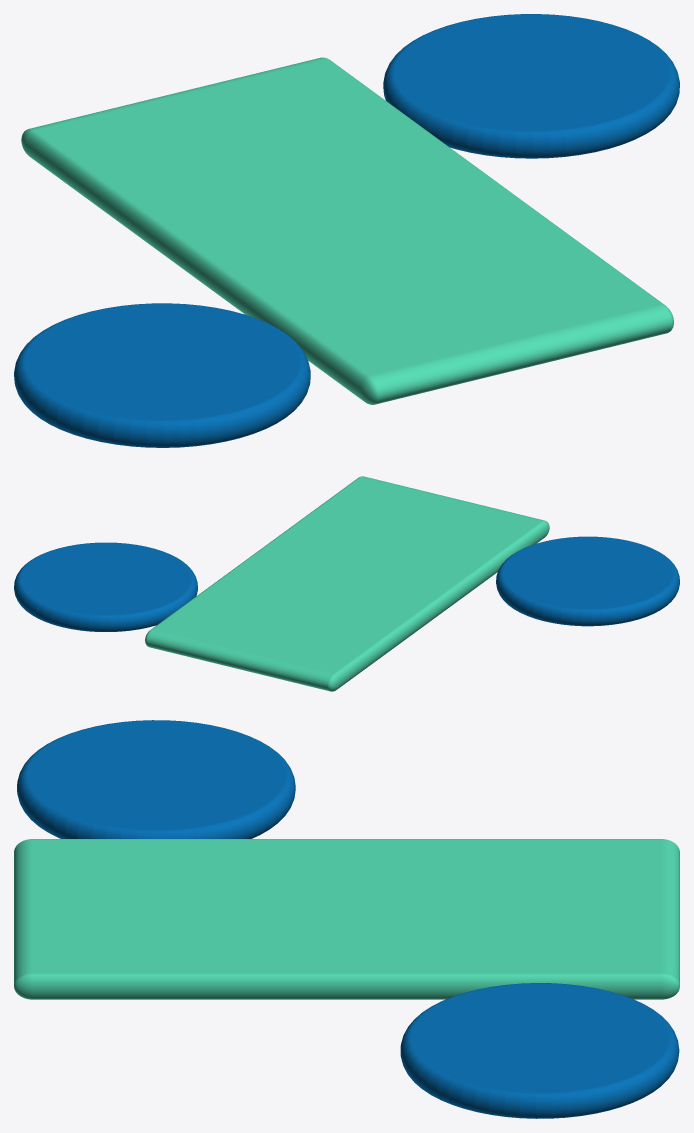
Rendered from Cylinder_Nets.fbx.
3 renders of one model, top to bottom at view 1: azimuth 30°, elevation 25°; view 2: azimuth 150°, elevation 25°; view 3: azimuth 270°, elevation 25°, orthographic. The views are drawn at different scales.
Visible parts, largest first — view 1: Plane, Circle.001, Circle; view 2: Plane, Circle.001, Circle; view 3: Plane, Circle, Circle.001.
Boxes of the visible parts, x1,y1,x2,y2 form: Plane: (21, 57, 673, 404); Circle.001: (14, 303, 310, 447); Circle: (383, 14, 679, 158); Plane: (145, 476, 549, 691); Circle.001: (496, 536, 679, 626); Circle: (14, 542, 197, 631); Plane: (14, 839, 679, 999); Circle: (400, 983, 679, 1118); Circle.001: (17, 720, 295, 838).
Size of the model in its own units: 73.61 by 2.32 by 54.43.
